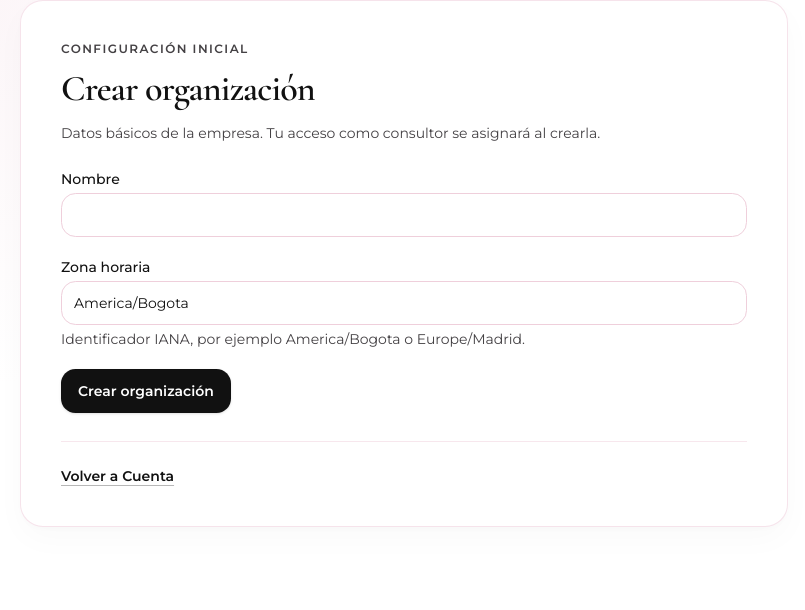
Test case: Create organization › shows field feedback for backend validation and permits correcting the input
Type "Empresa Real" into the field labelled "Nombre" at (404, 215), box [61,193,747,237]
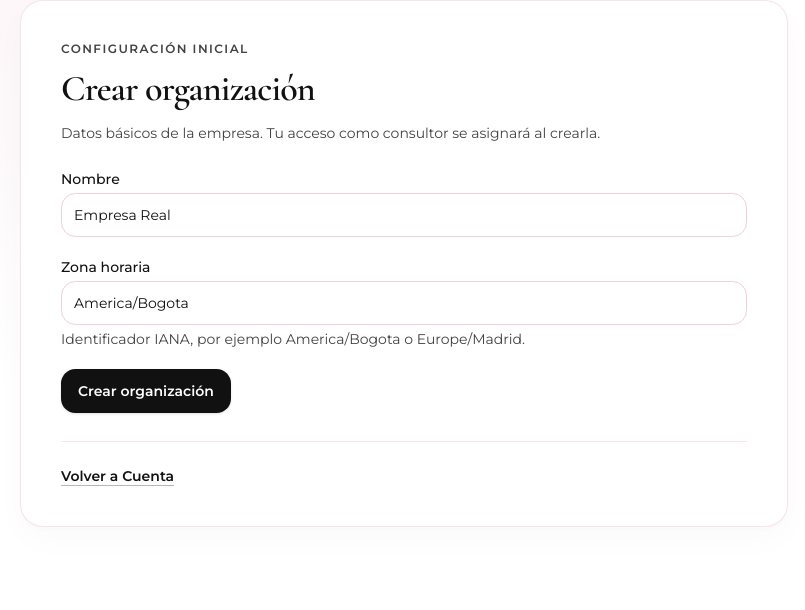
Replace the text in the field labelled "Zona horaria" with "Europe/Madrid" at (404, 303), box [61,281,747,325]
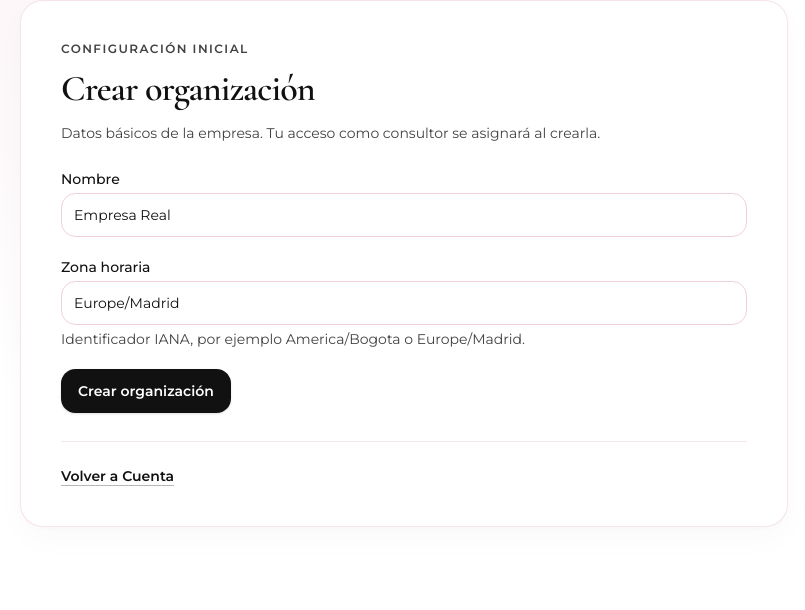
Submit the form named "Crear organización", box [61,169,747,413]
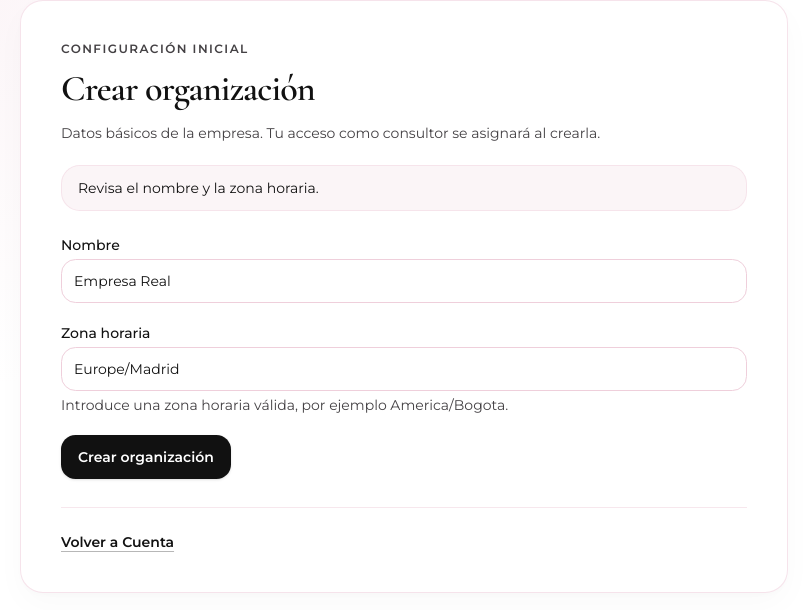
Expected: the button "Crear organización" is enabled, [61,435,231,479]
Result: the text "Revisa el nombre y la zona horaria." is shown at [61,165,747,211]
